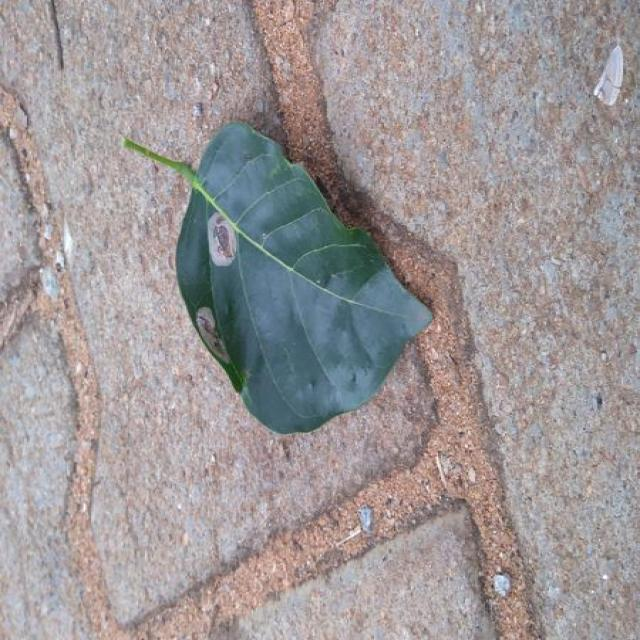honge: (123, 124, 432, 433)
powdery mildew: (177, 189, 245, 392)
